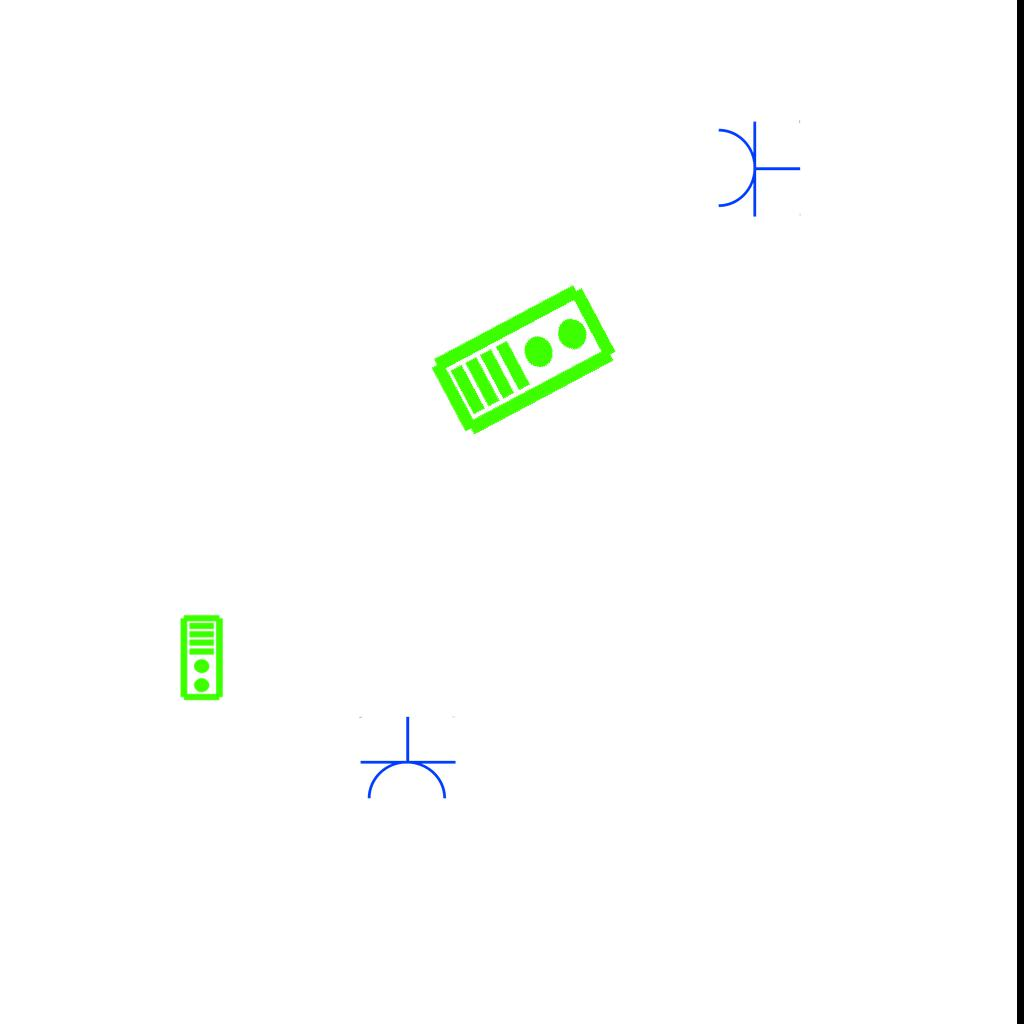Gegensprechanlage_mit_Video: (423, 274, 624, 442), (179, 614, 226, 702)
Schukosteckdose_einfach: (357, 716, 457, 803), (714, 118, 801, 218)
